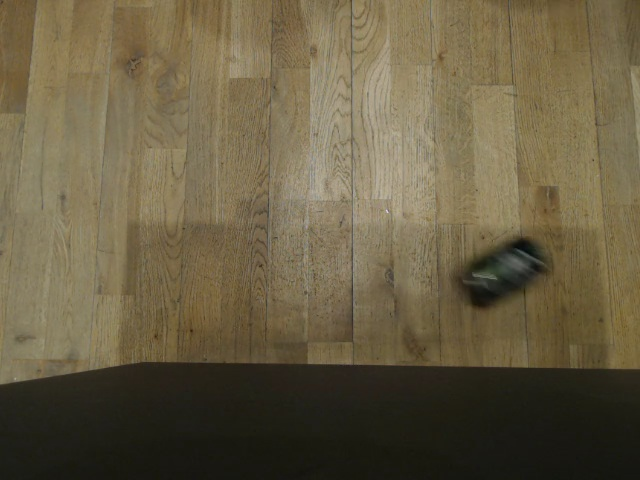beer: (454, 233, 554, 311)
